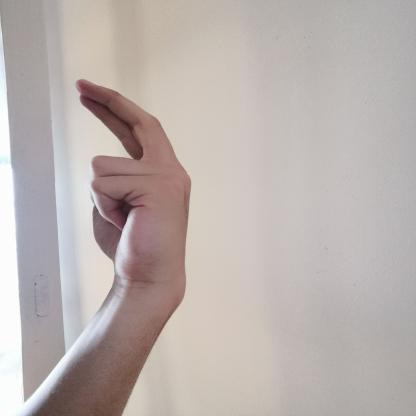ZAY: (61, 70, 205, 298)
